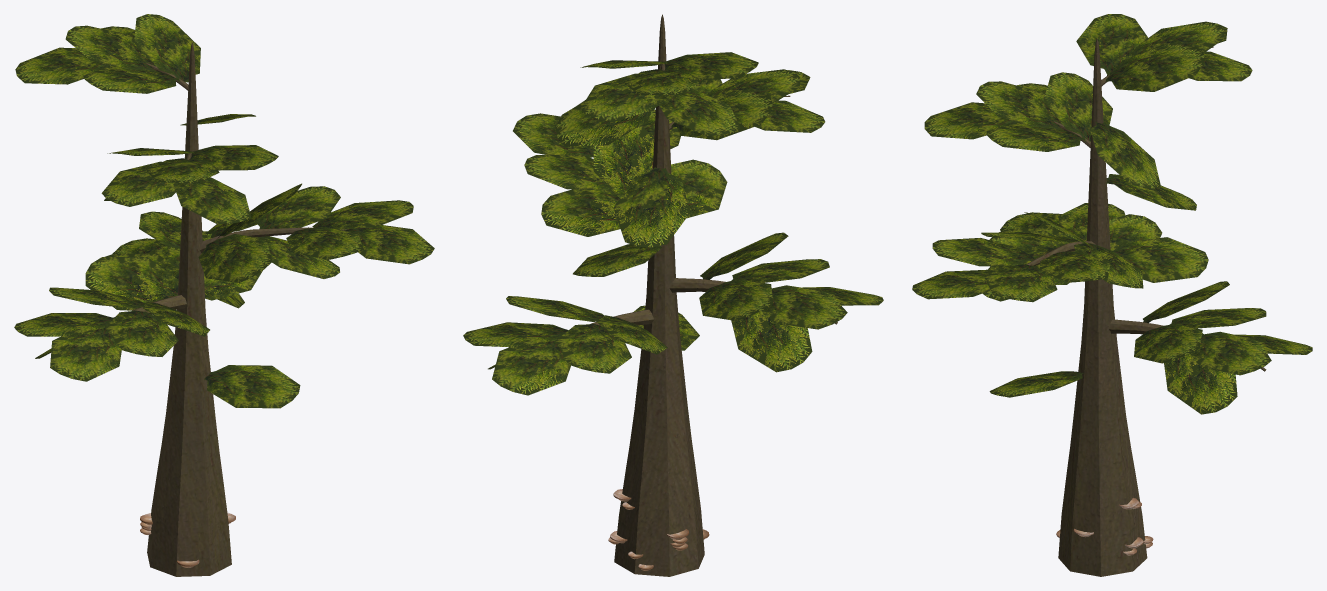
File: mushroom1_11.fbx
The picture shows the model from 3 angles, left to right: view 1: azimuth 30°, elevation 25°; view 2: azimuth 150°, elevation 25°; view 3: azimuth 270°, elevation 25°; orthographic projection. The views are drawn at different scales.
Visible parts, largest first — view 1: mushroom1_11; view 2: mushroom1_11; view 3: mushroom1_11.
Part boxes in pixels (box(x1,y1,x2,y2)): mushroom1_11: box(14, 14, 434, 576); mushroom1_11: box(463, 14, 883, 576); mushroom1_11: box(912, 14, 1312, 576).
Size of the model in its own units: 800 by 1126 by 785.
Materials: 1 (1 with a texture image).
